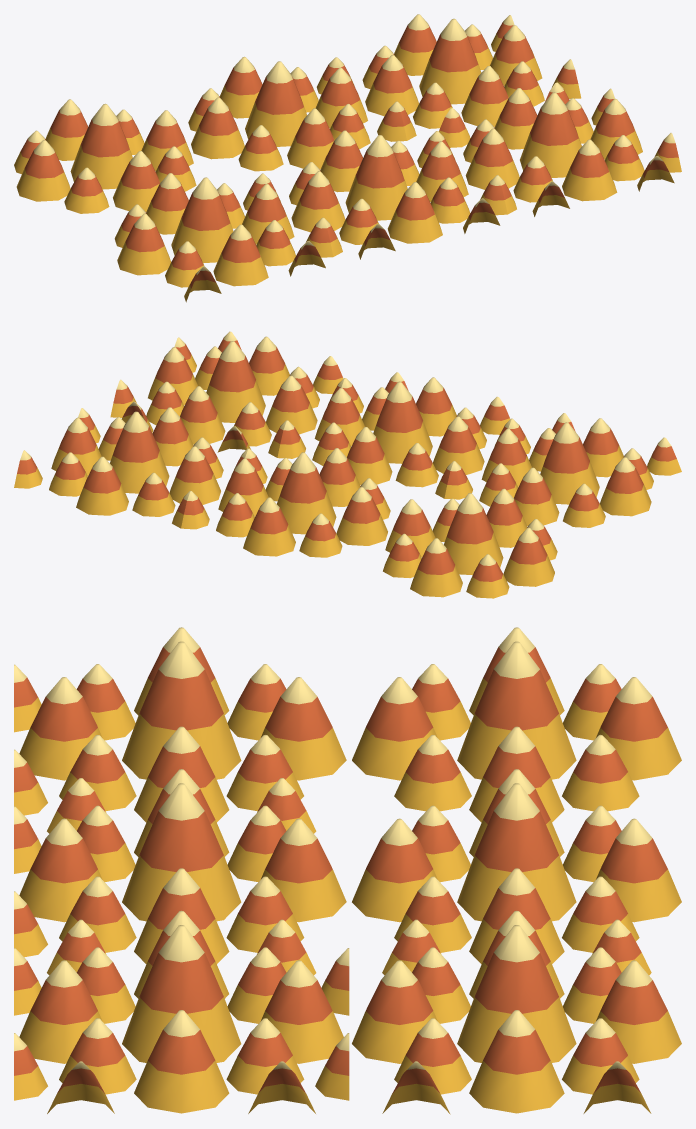
File: candycorn.glb
3 views of the same model, one above another, from view 1: azimuth 30°, elevation 25°; view 2: azimuth 150°, elevation 25°; view 3: azimuth 270°, elevation 25° (orthographic). The views are drawn at different scales.
Visible parts, largest first — view 1: Center_col, Edge_col, Corner_col, Double End_col, Double_col, Single_col; view 2: Center_col, Edge_col, Corner_col, Double_col, Double End_col, Single_col; view 3: Center_col, Double_col, Edge_col, Corner_col, Single_col, Double End_col.
Boxes of the visible parts, x1,y1,x2,y2 form: Center_col: (437, 82, 681, 216); Edge_col: (262, 130, 507, 259); Corner_col: (114, 173, 333, 302); Double End_col: (188, 56, 406, 171); Double_col: (336, 14, 581, 140); Single_col: (14, 99, 196, 213); Center_col: (110, 331, 344, 457); Edge_col: (277, 372, 511, 498); Corner_col: (444, 413, 681, 527); Double_col: (14, 407, 248, 528); Double End_col: (181, 448, 390, 557); Single_col: (383, 488, 557, 598); Center_col: (14, 910, 349, 1113); Double_col: (352, 910, 681, 1114); Edge_col: (14, 769, 346, 964); Corner_col: (14, 627, 346, 822); Single_col: (352, 627, 681, 822); Double End_col: (352, 769, 681, 963).
Size of the model in its own units: 5.99 by 0.7747 by 3.99.
Materials: 1 (1 with a texture image).
